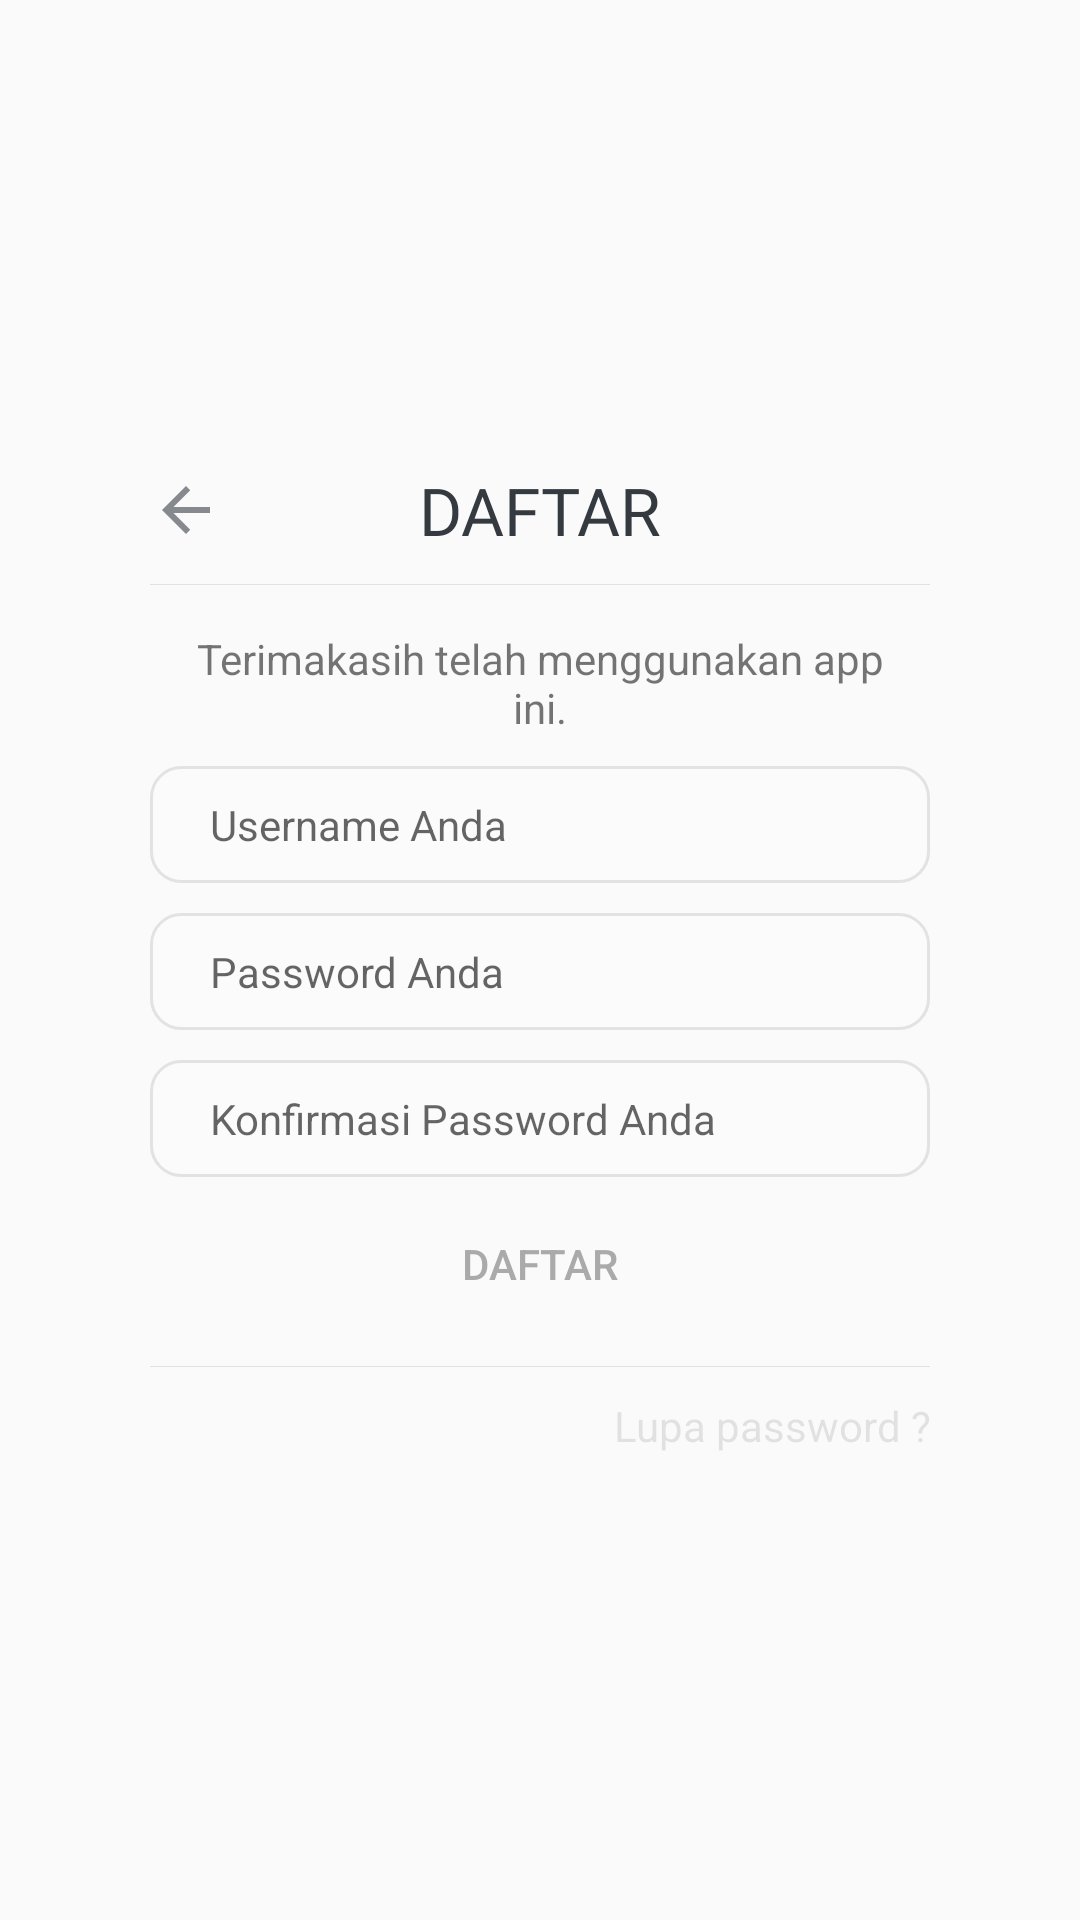

Locate icon controls on the screen. Image size 1080w x 1920h, boxes as (x1, y1, x2, y2).
arrow back: (162, 486, 210, 534)
